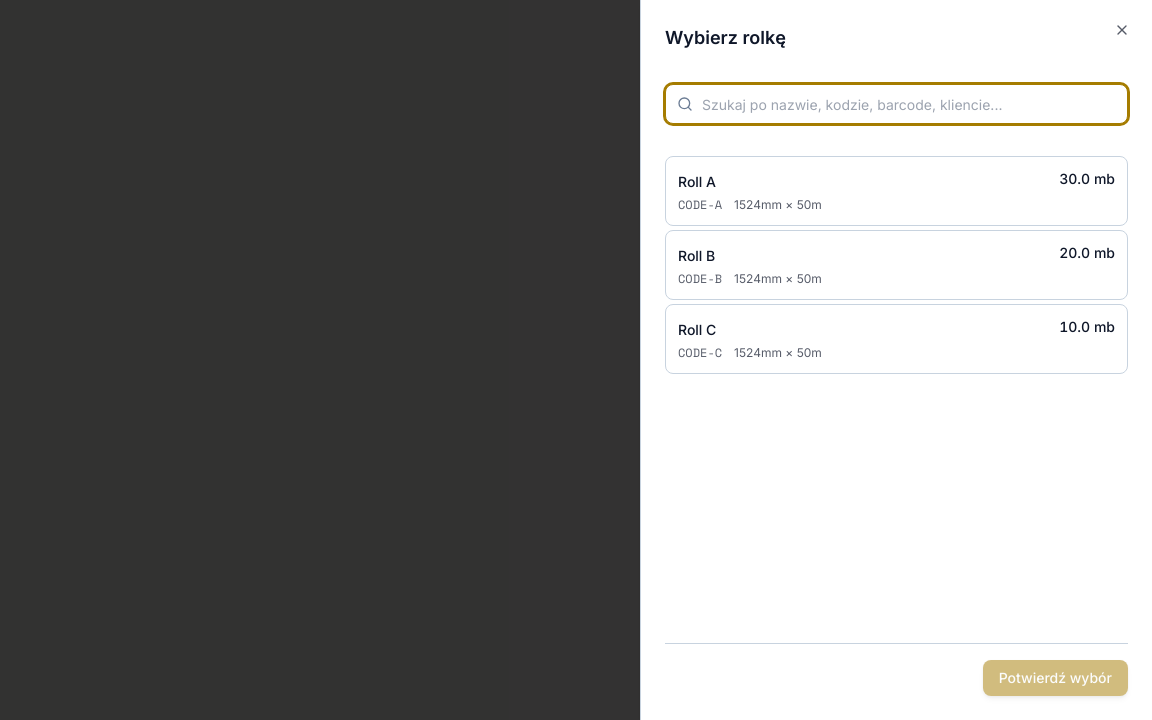
RollSelectDrawer › Search filtering › filters rolls by product name
This screenshot has width=1152, height=720.
Expected: the text "Roll A" is shown, [678,173,716,190]
Type "Roll A" into the field with placeholder "Szukaj po nazwie, kodzie, barcode, kliencie..." at (896, 104), box [665,84,1128,124]
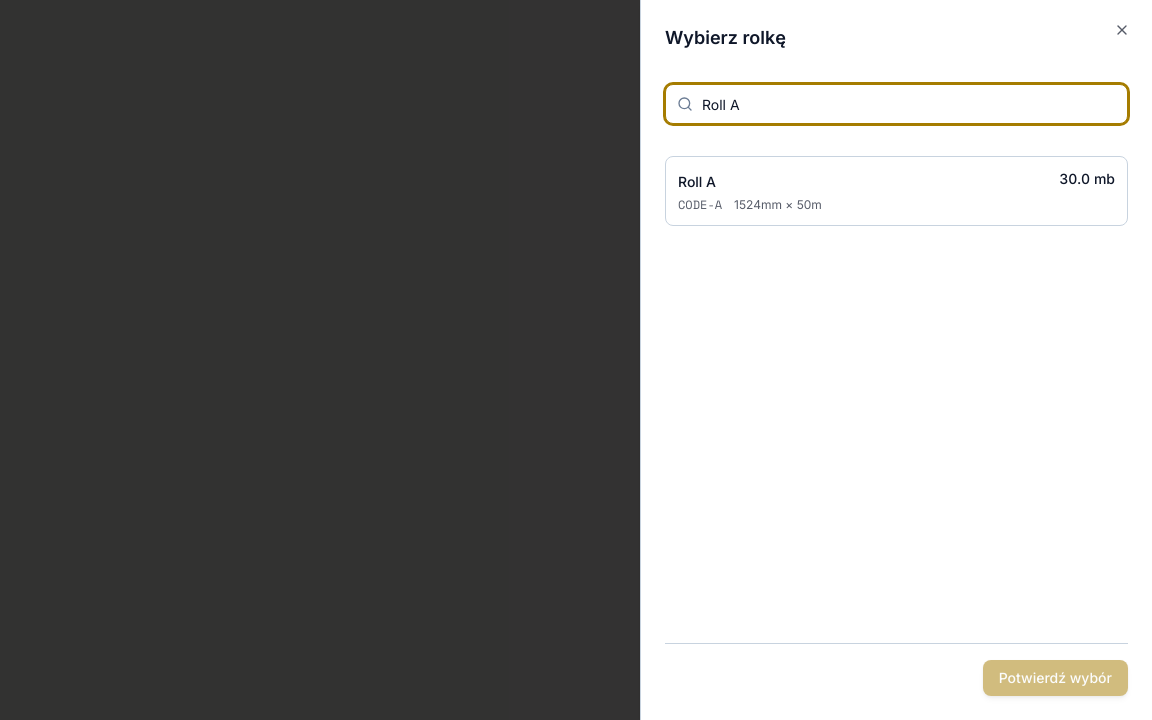
Expected: the text "Roll A" is shown, [678,173,716,190]
Expected: the button "Roll B" is gone
Expected: the button "Roll C" is gone
